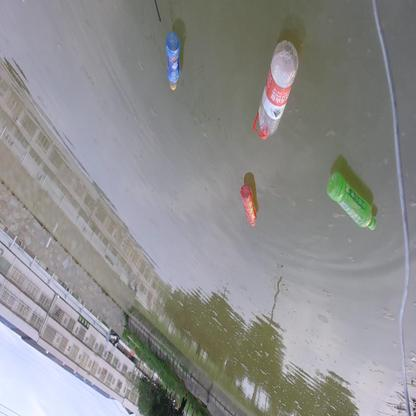plastic bottle: (253, 41, 298, 139), (326, 172, 378, 231), (164, 30, 181, 91), (239, 184, 259, 229)
